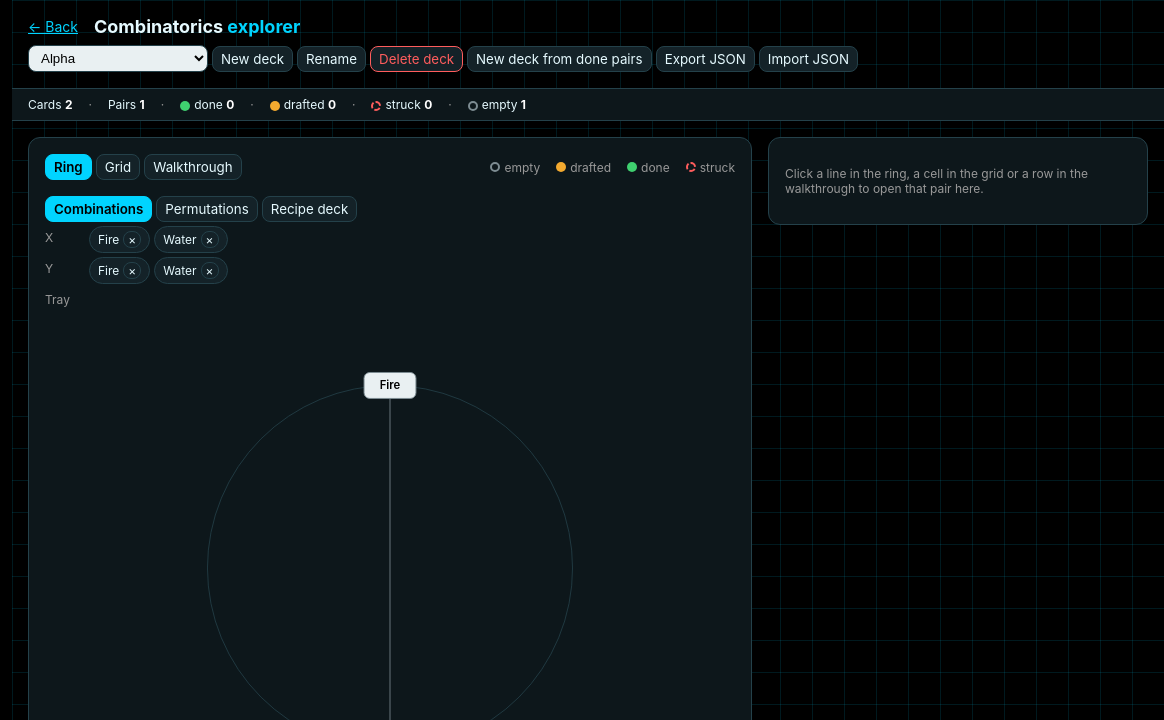
Test: CombinationsPage view tabs › writes ?view when a tab is clicked, keeping the deck
Click the tab "Grid".
click(118, 167)  # box [96,154,140,180]
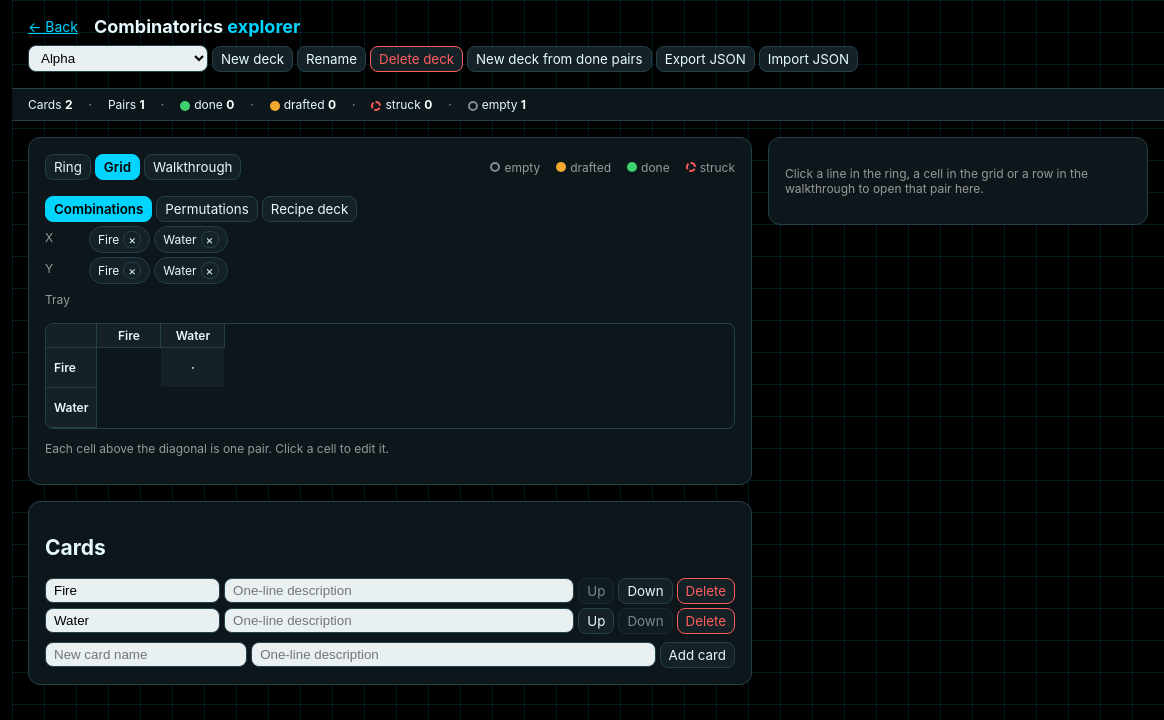
Check: the tab "Grid" is selected, box [95,154,140,180]
Click the tab "Walkthrough".
click(193, 167)  # box [144,154,242,180]
(page scrolled)
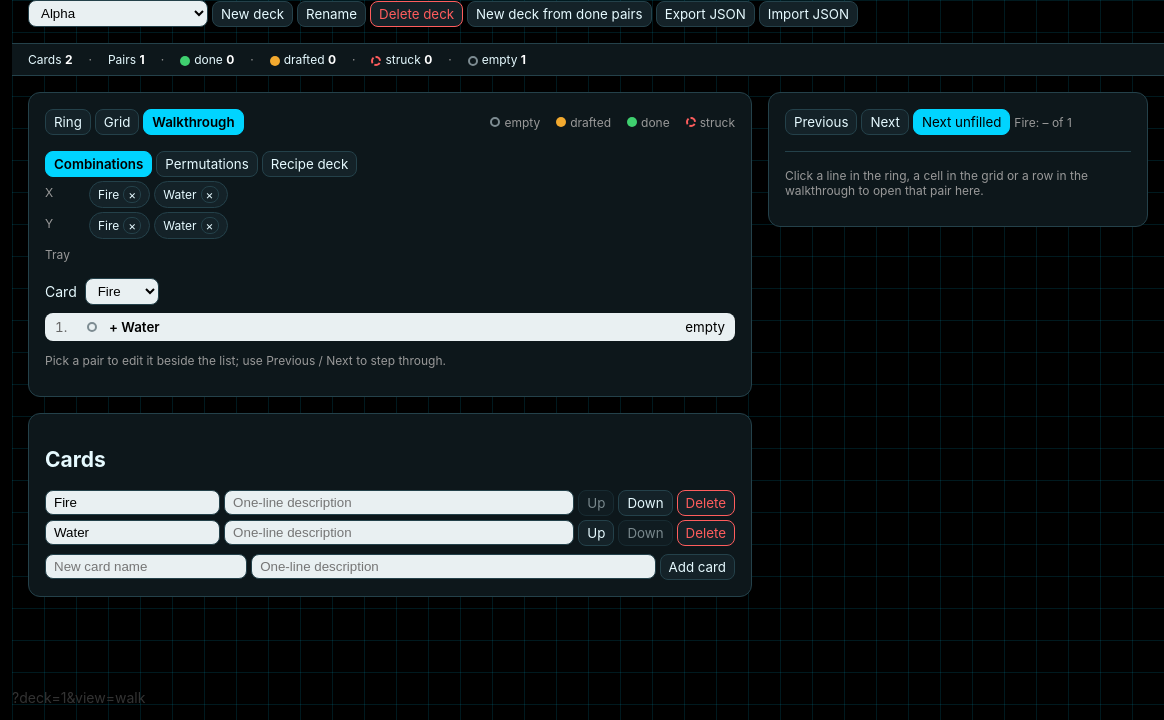
Check: the text with test id "where" shows "view=walk", box [12,689,145,706]
